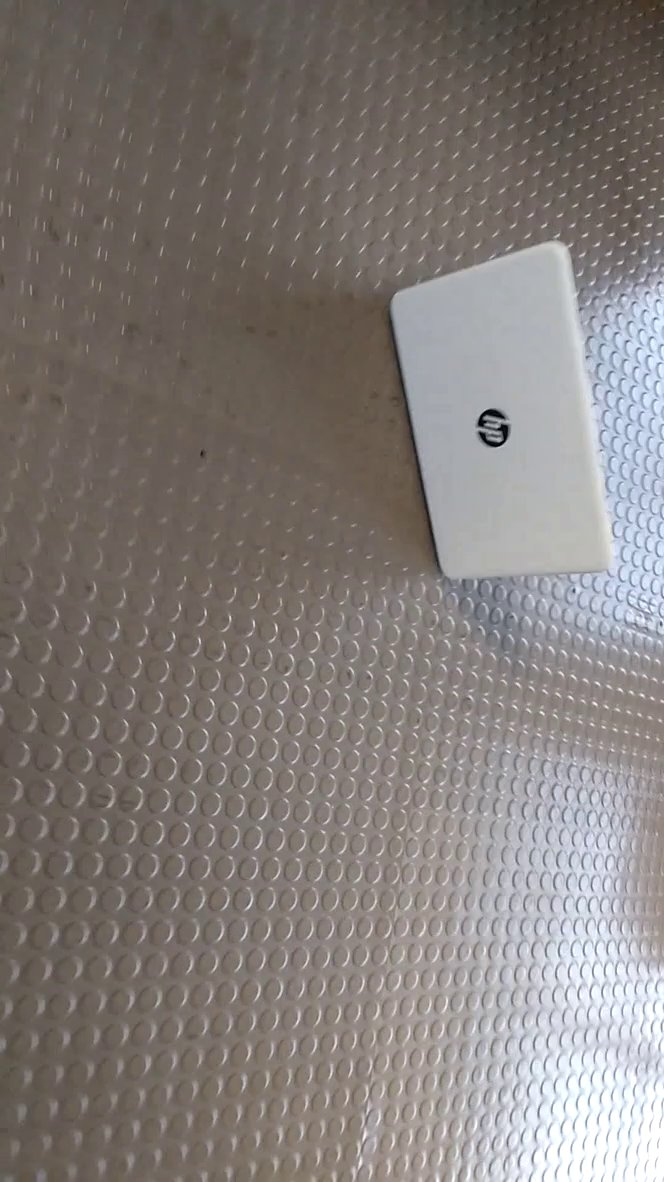laptop: (377, 235, 624, 592)
